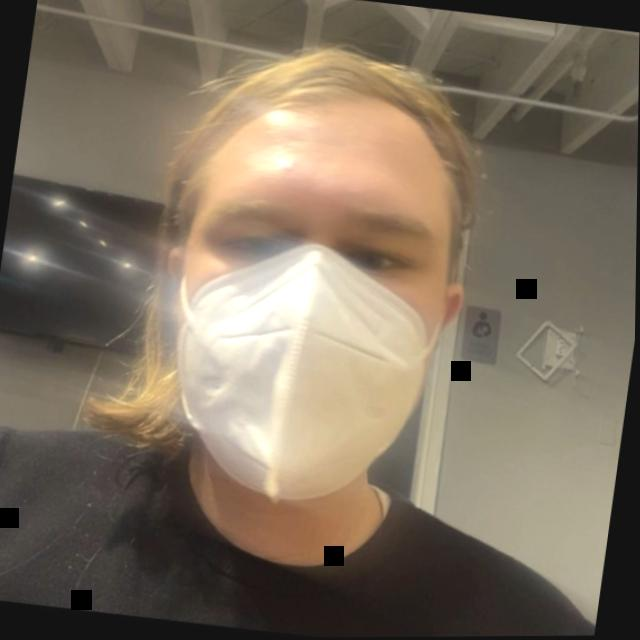Mask: (64, 25, 519, 591)
